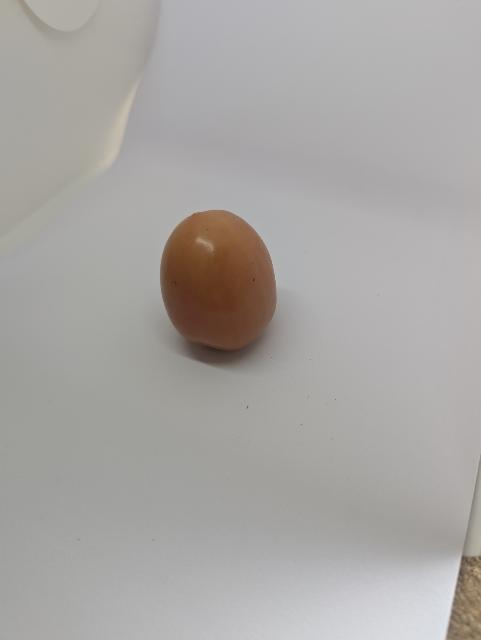turning: (155, 207, 291, 361)
